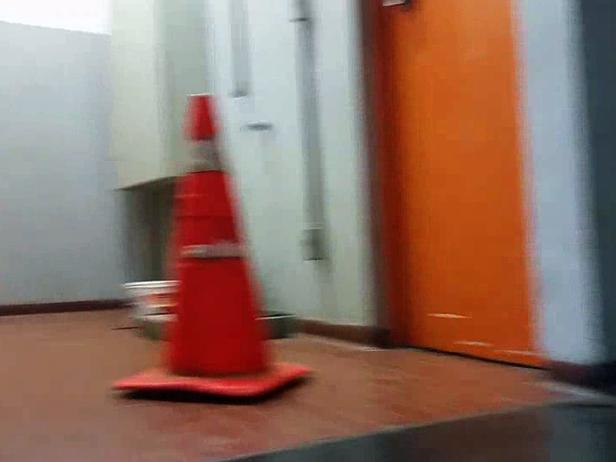0 cone: (112, 93, 309, 395)
